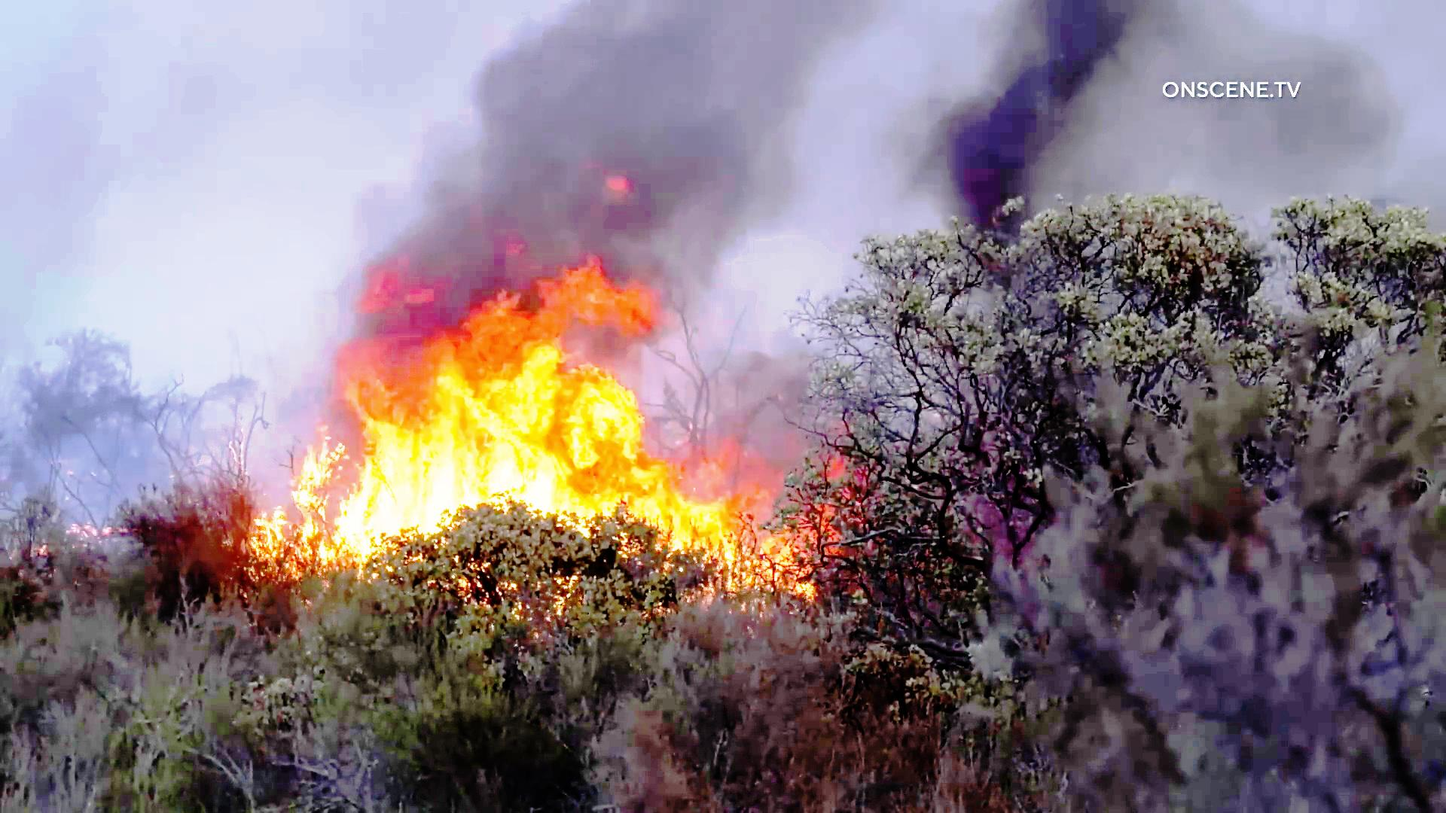fire: (337, 281, 721, 565)
smoke: (452, 14, 1138, 213)
